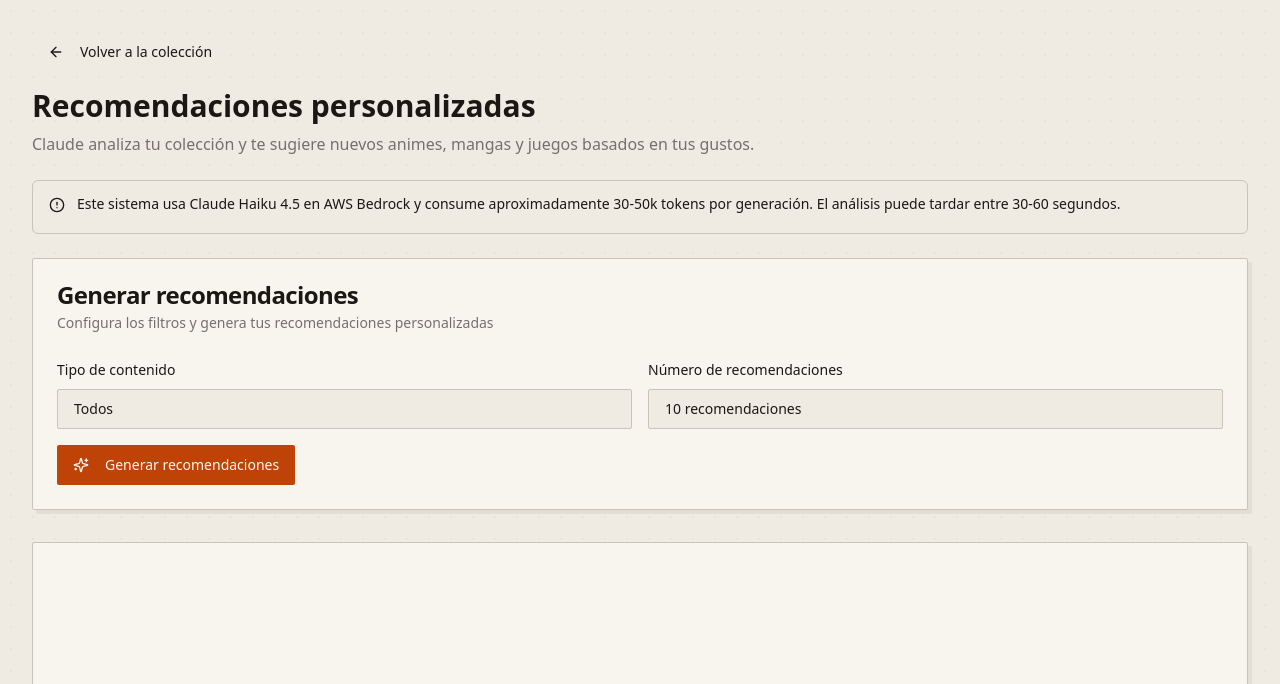
Test: RecommendationsPage › filtros de tipo cambian estado
Click the button "Todos" at (94, 408), box [57,389,632,429]
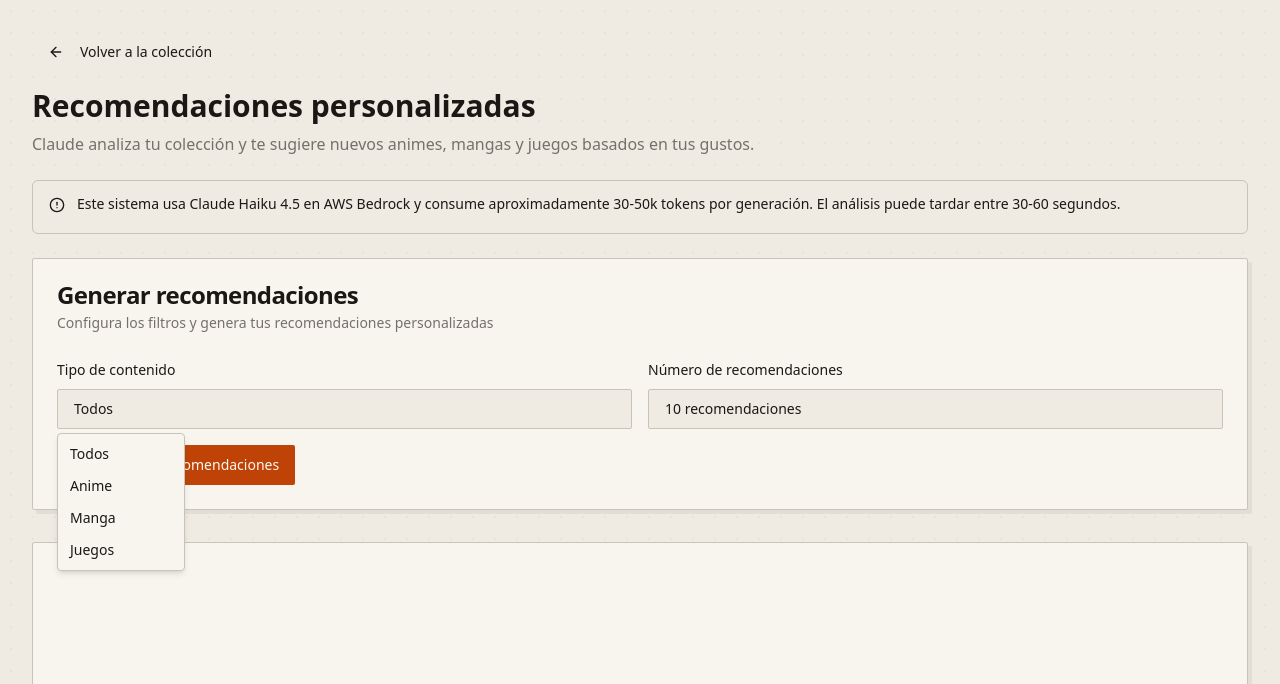
Click the menu item "Anime" at (91, 486), box [70,476,112,495]
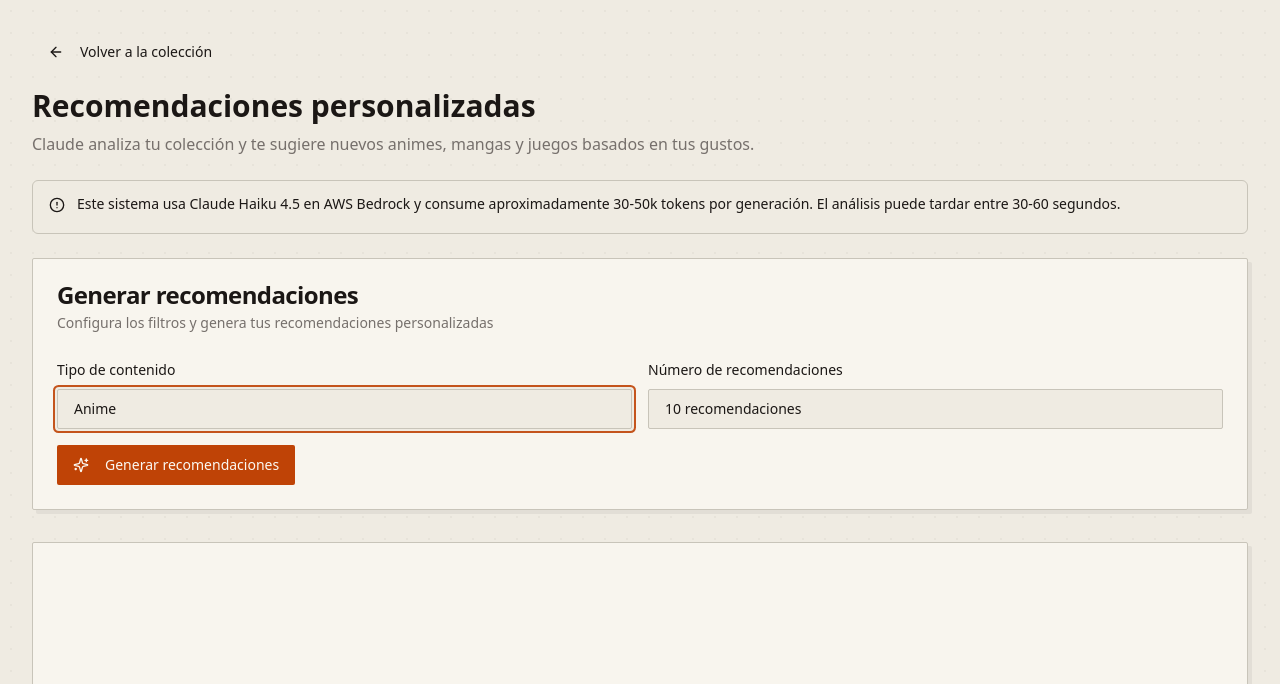
Check: the button "Anime" is shown, box [57,389,632,429]
